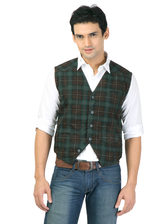clothoes: (44, 57, 141, 167)
